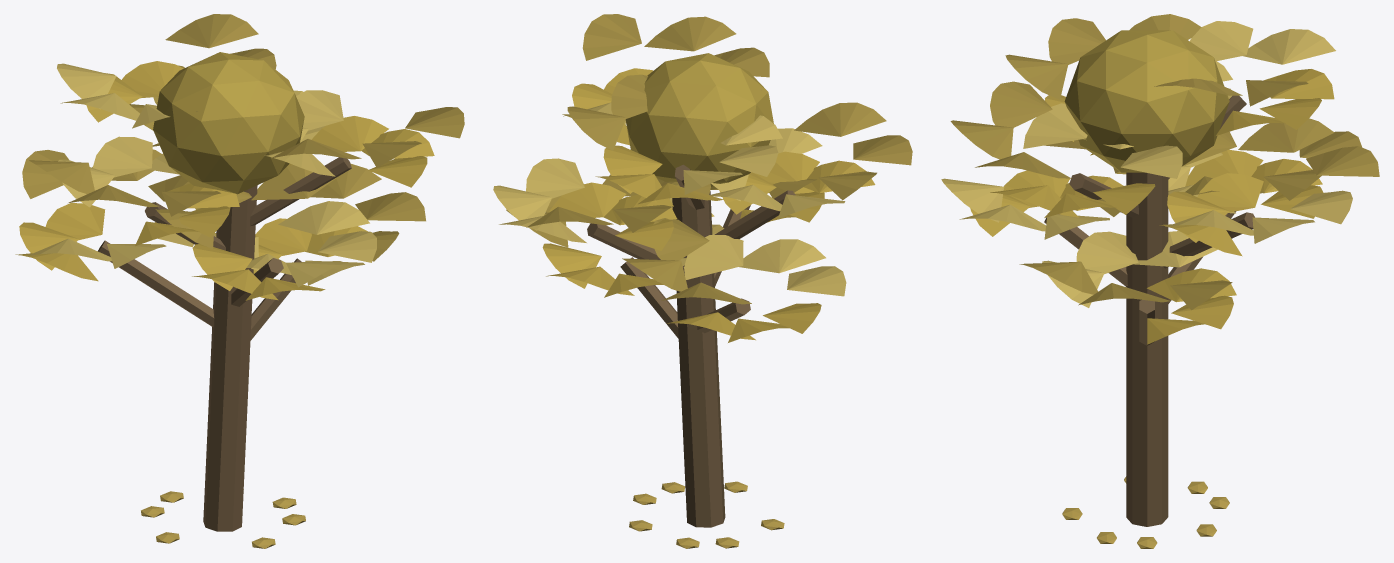
The model's file is pack-ginkgo.glb.
3 renders of one model, left to right at view 1: azimuth 30°, elevation 25°; view 2: azimuth 150°, elevation 25°; view 3: azimuth 270°, elevation 25°, orthographic. The views are drawn at different scales.
Parts seen in each view (by area): view 1: SculptedModel; view 2: SculptedModel; view 3: SculptedModel.
Part boxes in pixels (left/top/right/bottom): SculptedModel: left=15, top=14, right=464, bottom=548; SculptedModel: left=493, top=14, right=912, bottom=548; SculptedModel: left=941, top=14, right=1379, bottom=548.
Bounding box in the file's own units: 2.92 × 3.58 × 2.92.
